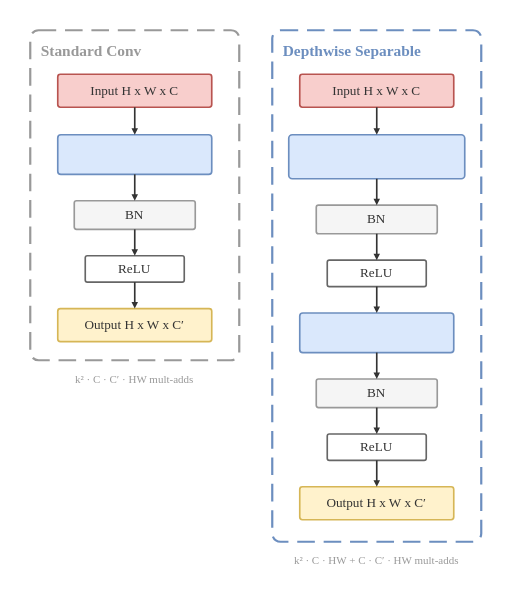
Some shapes in this 510 by 597 pixel diagram are drawn without their labels. The shapes that lost their labels are listed below. From the top down, each one's centre as x and y in pixels, then its label:
At (134,154): "Conv 3x3 C → C′".
At (376,156): "Depthwise Conv 3x3 (one filter per channel)".
At (376,332): "Pointwise Conv 1x1 C → C′".
